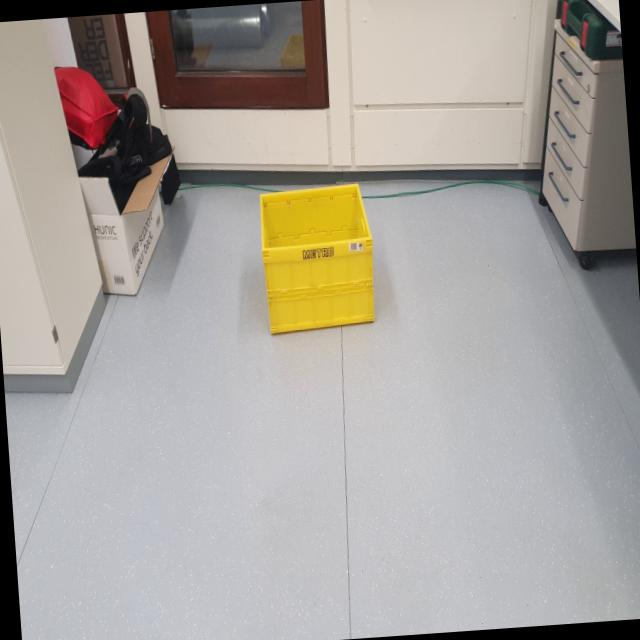box: (246, 170, 389, 350)
